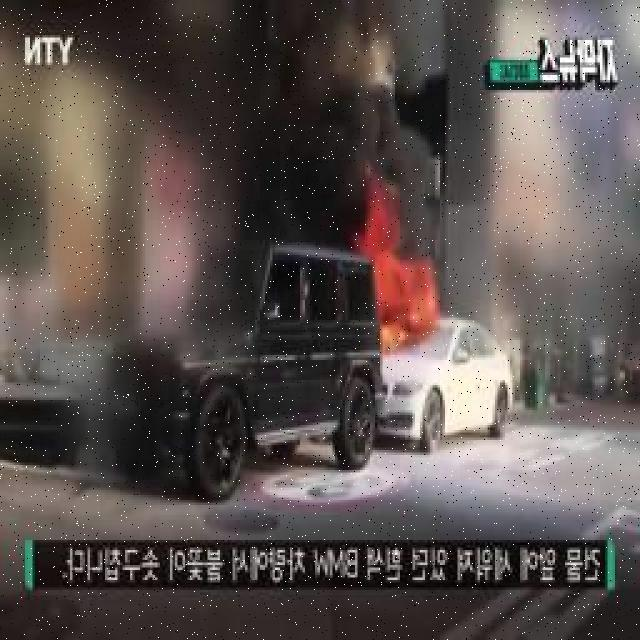Fire: (363, 227, 435, 350)
